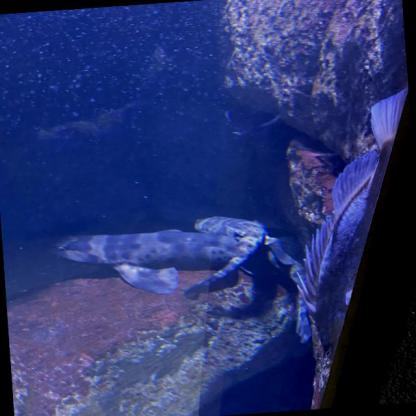fish: (286, 90, 416, 356)
shark: (47, 222, 270, 308), (194, 210, 313, 350)
